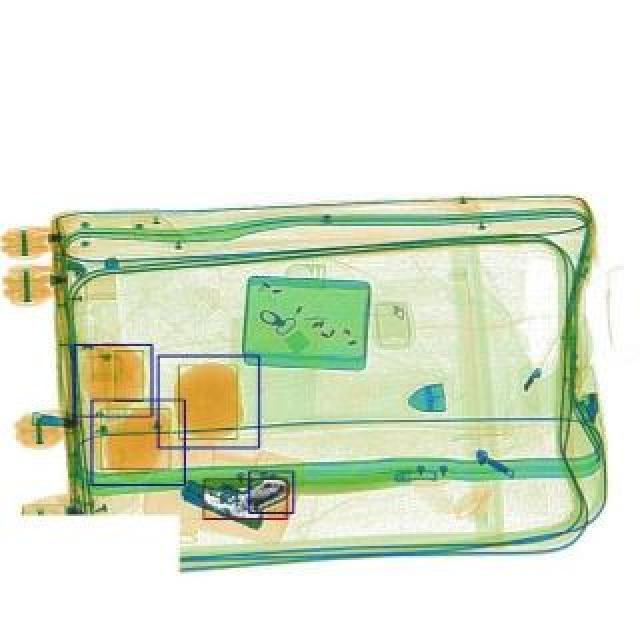gun: (180, 456, 292, 532)
